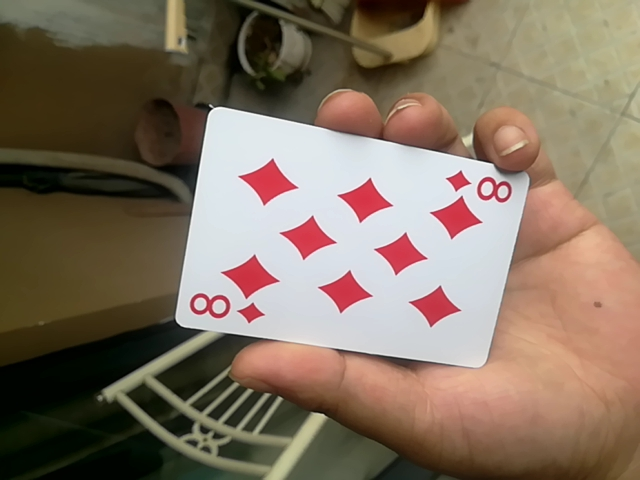fk 8: (169, 102, 520, 369)
